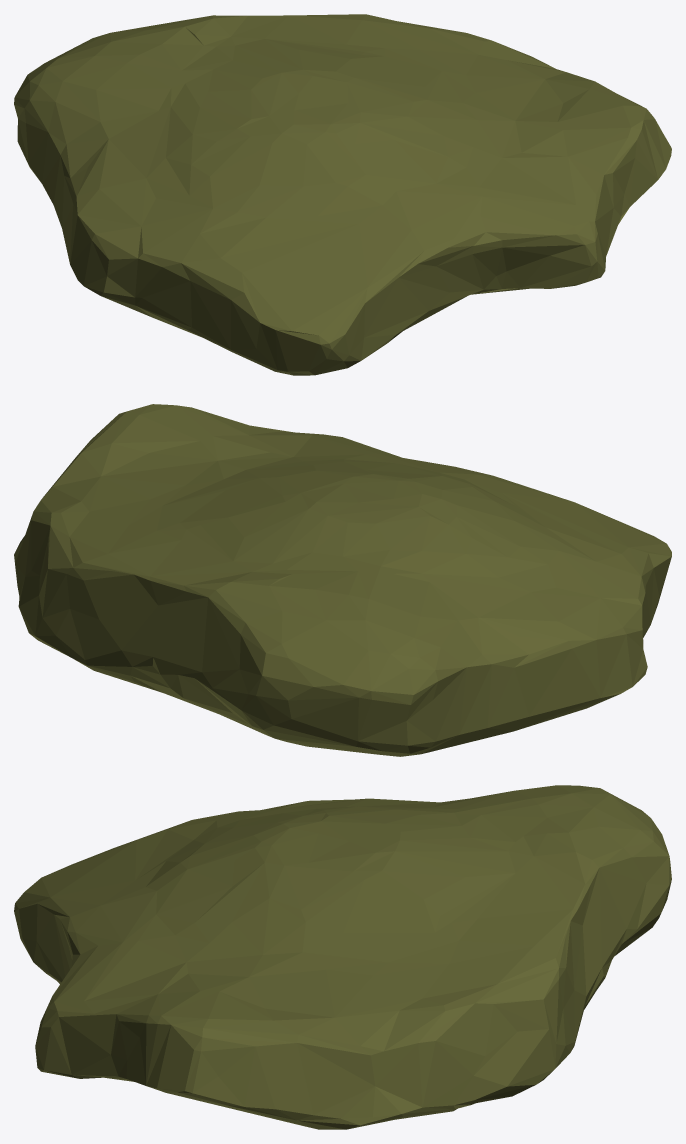
The model's file is Mosh 03.FBX.
3 renders of one model, top to bottom at view 1: azimuth 30°, elevation 25°; view 2: azimuth 150°, elevation 25°; view 3: azimuth 270°, elevation 25°, orthographic. The views are drawn at different scales.
Parts seen in each view (by area): view 1: cube; view 2: cube; view 3: cube.
Part boxes in pixels (box(x1,y1,x2,y2)): cube: box(14, 14, 671, 375); cube: box(14, 404, 671, 756); cube: box(14, 785, 671, 1129).
Bounding box in the file's own units: 104 × 34.33 × 97.68.
